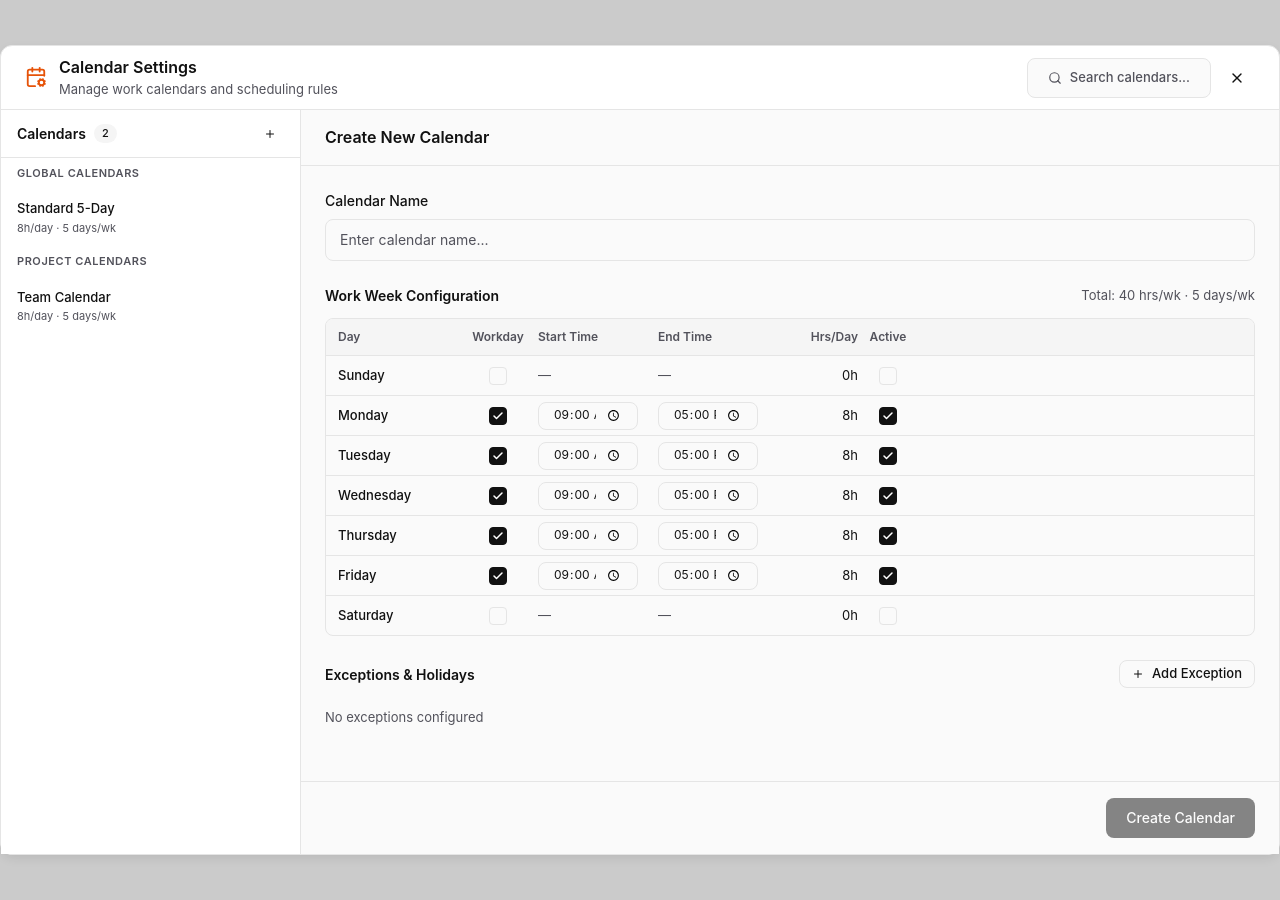
it: Calendar list and selection › switching between calendars updates the detail view
# Select first calendar
Click the text "Standard 5-Day": (66, 209) [17, 199, 115, 219]
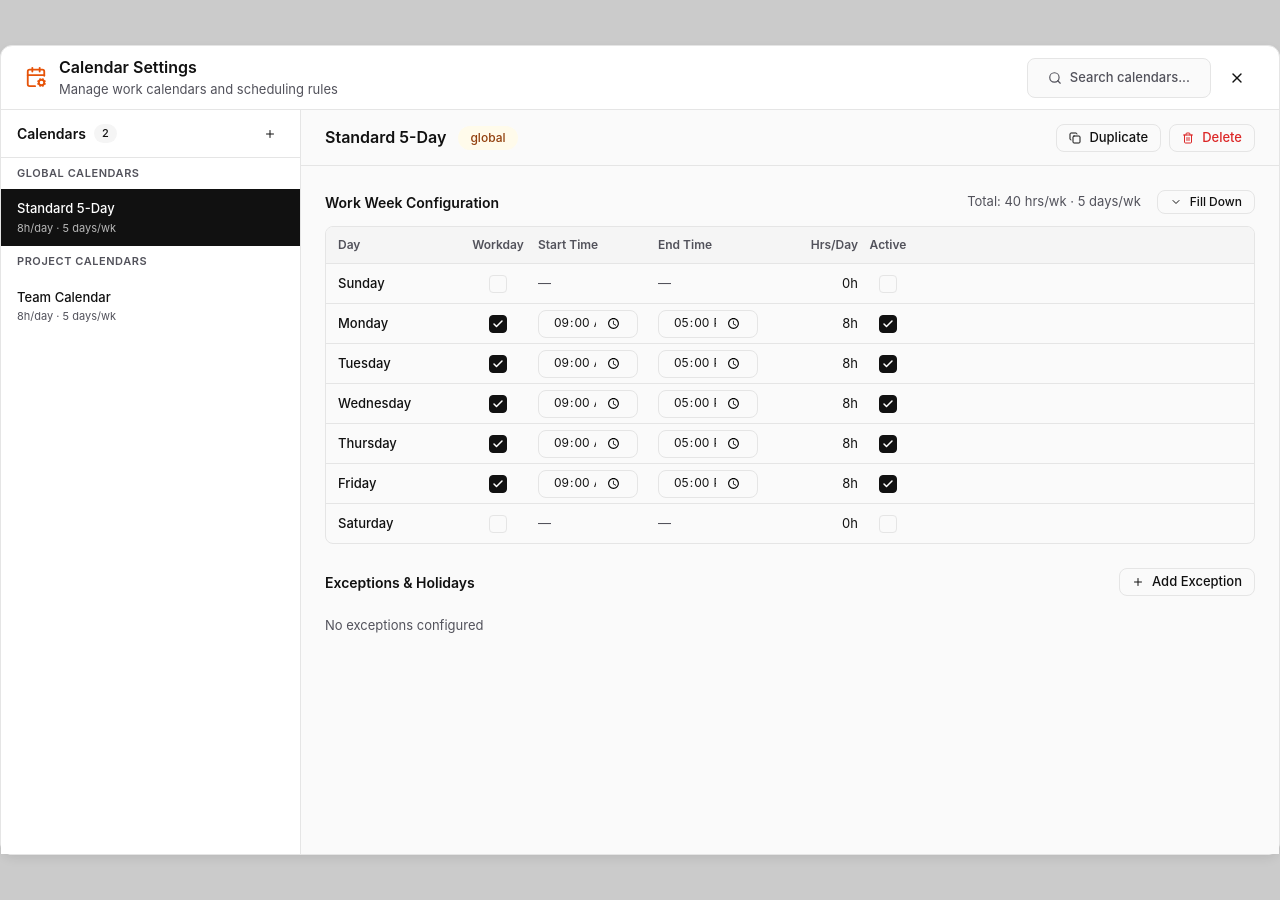
Expected: the text "global" is shown, [458, 126, 518, 150]
# Select second calendar
Click the text "Team Calendar": (64, 297) [17, 288, 111, 307]
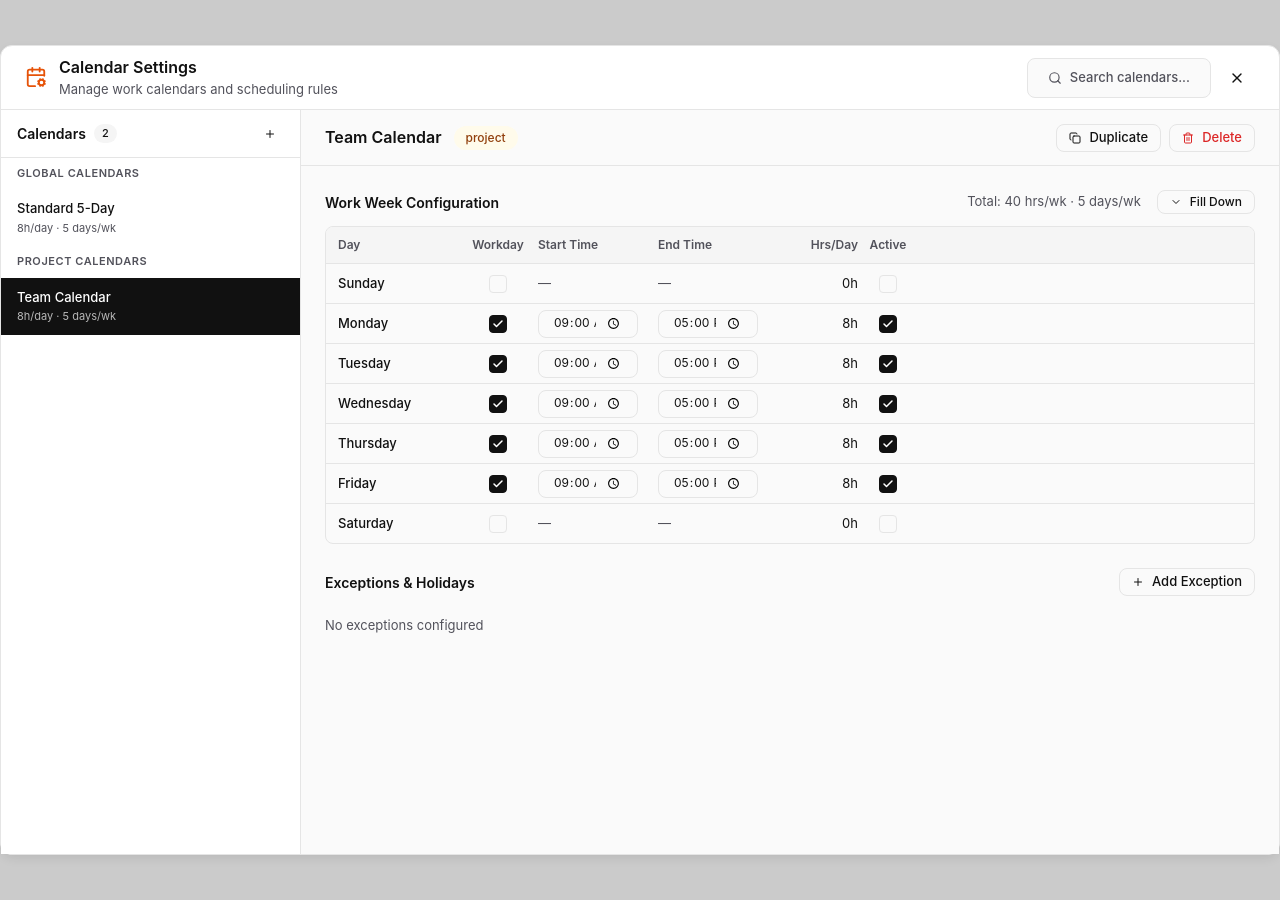
Expected: the text "project" is shown, [454, 126, 518, 150]
